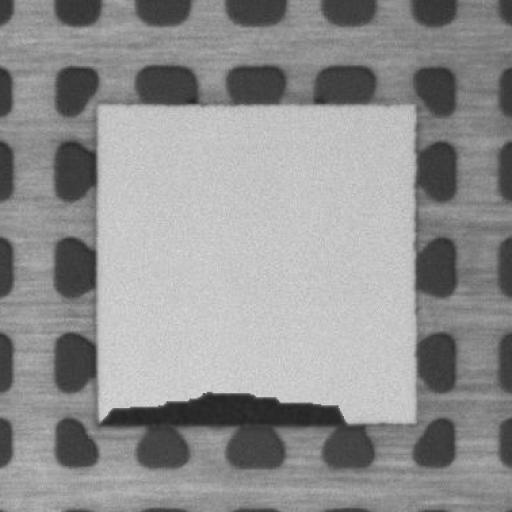DIE_BROKEN: (92, 385, 348, 428)
